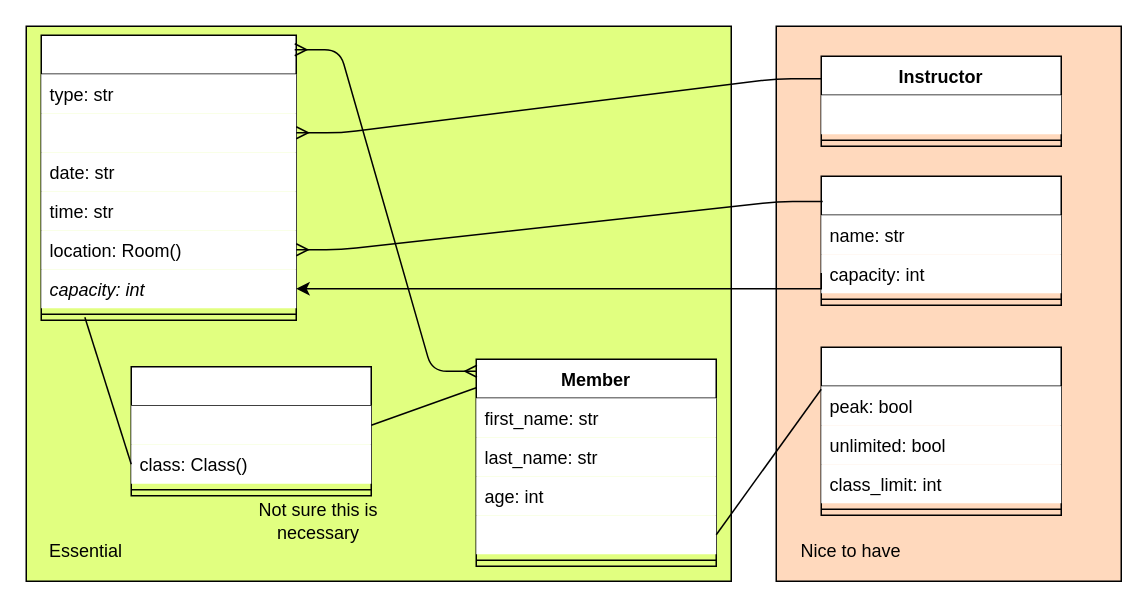
Image size: 1148x608. Some labels were removed from this diagram. The box of each missing label's shape, as (x1, y1, x2, y2) in pixels:
Attendance: (130, 365, 371, 496)
Class: (40, 34, 296, 320)
instructor: Instructor(): (40, 112, 296, 152)
member: Member(): (130, 405, 370, 444)
Membership: (820, 346, 1061, 515)
membership: str: (476, 514, 716, 554)
name: int: (820, 94, 1060, 134)
Room: (820, 175, 1061, 305)
